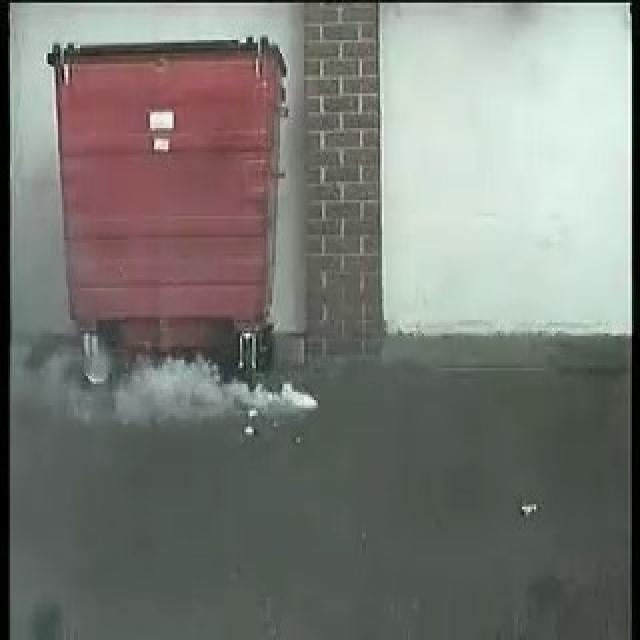smoke: (106, 355, 315, 417)
